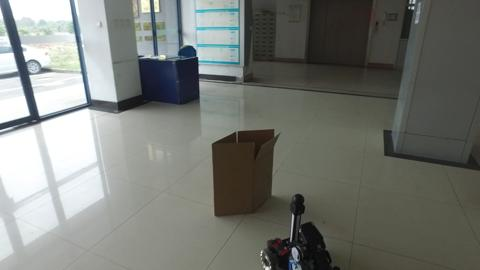box: (210, 130, 272, 216)
chariot: (260, 193, 345, 270)
